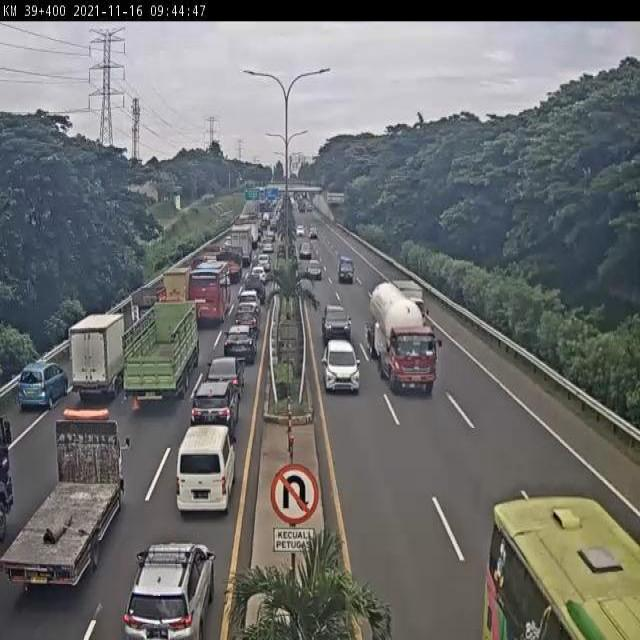big bus: (185, 264, 229, 327)
car: (122, 544, 215, 639), (188, 382, 236, 447), (16, 360, 65, 409), (322, 339, 363, 392), (205, 355, 246, 396), (223, 327, 255, 365), (321, 301, 350, 336), (232, 308, 259, 335), (236, 288, 261, 316)
small bus: (174, 426, 234, 510)
small truck: (161, 261, 194, 308)
truck-l-: (124, 299, 198, 404)
truck-m-: (0, 408, 127, 588), (64, 314, 123, 402), (130, 280, 168, 320)
truck-xl-: (365, 284, 442, 391)
